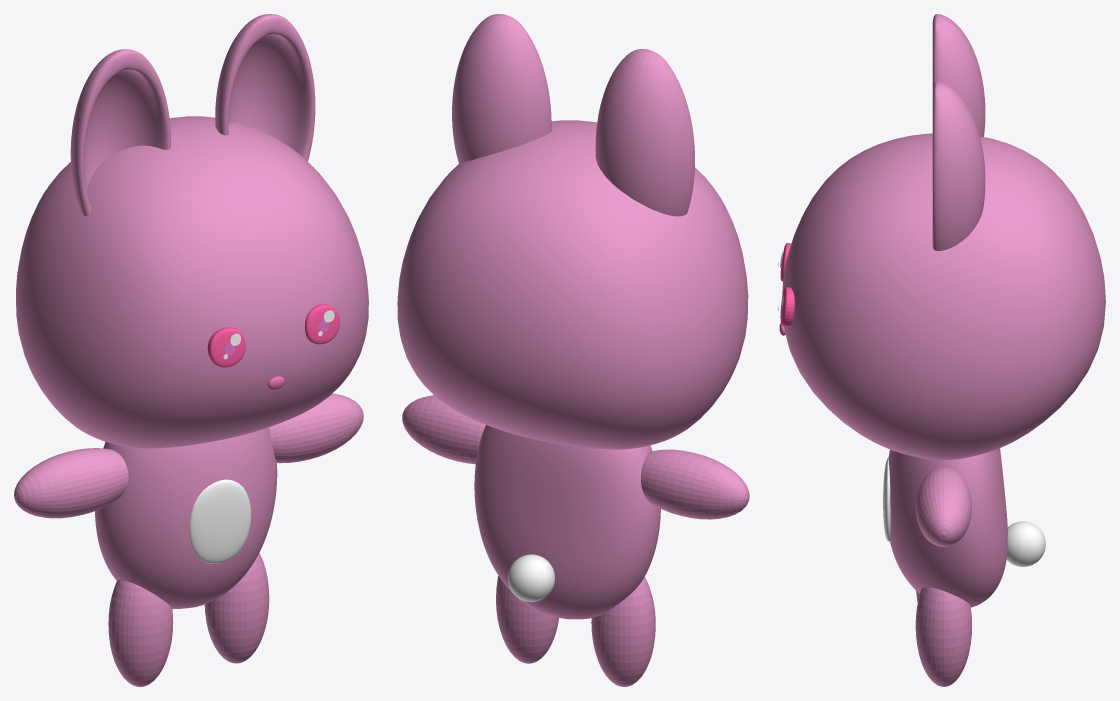
The model's file is PinkRabbit.fbx.
The picture shows the model from 3 angles, left to right: view 1: azimuth 30°, elevation 25°; view 2: azimuth 150°, elevation 25°; view 3: azimuth 270°, elevation 25°; orthographic projection. The views are drawn at different scales.
Visible parts, largest first — view 1: Plane.005, Plane.002, Sphere.001, Sphere; view 2: Plane.005, Plane.002, Sphere.001, Sphere; view 3: Plane.005, Plane.002, Sphere, Sphere.001.
Boxes of the visible parts, <box> form: Plane.005: <box>16,14,368,448</box>; Plane.002: <box>95,427,277,608</box>; Sphere.001: <box>14,393,363,518</box>; Sphere: <box>108,553,269,686</box>; Plane.005: <box>397,14,748,449</box>; Plane.002: <box>474,425,660,619</box>; Sphere.001: <box>402,395,749,519</box>; Sphere: <box>496,576,655,686</box>; Plane.005: <box>778,14,1105,460</box>; Plane.002: <box>883,448,1045,607</box>; Sphere: <box>915,587,972,686</box>; Sphere.001: <box>915,467,971,547</box>.
Bounding box in the file's own units: 157 × 277 × 134.
